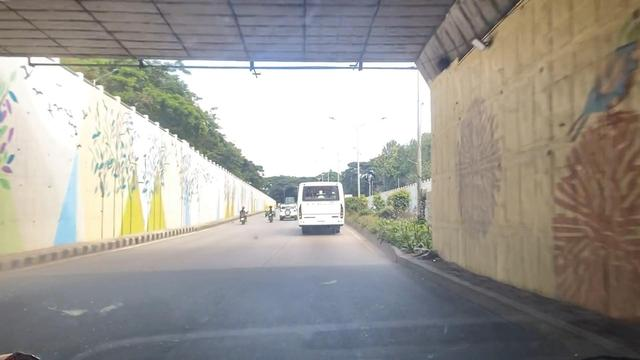HMV: (301, 184, 343, 237)
